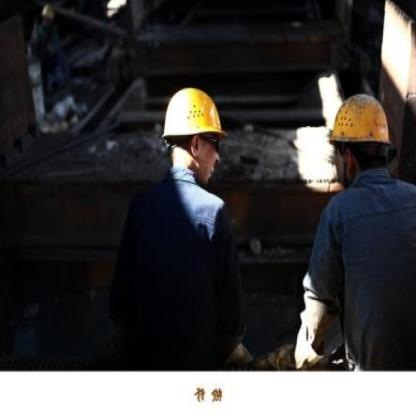helmet: (160, 79, 231, 193), (326, 87, 396, 189)
